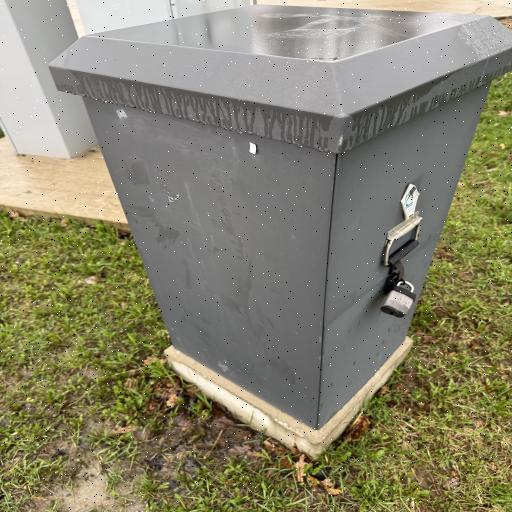Electrical Box: (46, 4, 511, 430)
